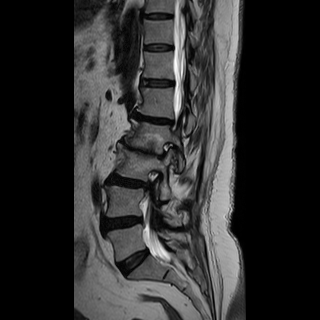LFS3: (153, 134, 180, 164)
